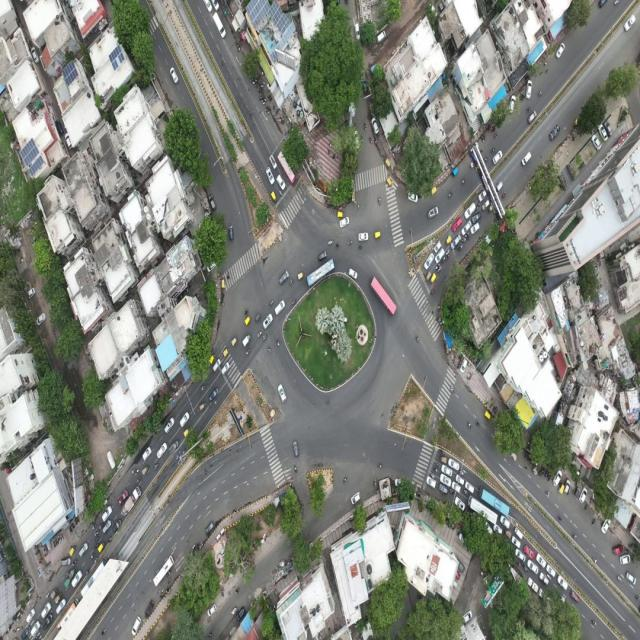3W: (196, 397, 208, 413), (49, 583, 59, 600), (53, 591, 64, 606), (95, 539, 106, 554), (68, 543, 78, 559), (141, 462, 151, 478), (428, 182, 438, 198), (67, 566, 78, 580), (503, 526, 513, 541), (428, 272, 438, 286), (270, 188, 278, 205), (451, 163, 460, 178), (437, 454, 448, 466), (384, 155, 392, 171), (63, 576, 72, 590), (373, 227, 382, 241), (483, 407, 492, 421), (573, 116, 583, 128), (183, 424, 191, 438), (208, 352, 216, 366), (425, 268, 432, 284), (557, 483, 566, 495), (573, 485, 580, 500), (230, 334, 238, 347), (445, 234, 453, 247), (220, 274, 226, 291), (223, 346, 232, 357), (386, 176, 393, 190), (244, 314, 251, 327), (255, 311, 262, 324), (297, 269, 304, 282), (336, 209, 344, 219), (488, 202, 494, 215)
Bus: (368, 272, 399, 320), (80, 552, 108, 600), (479, 484, 511, 518), (305, 256, 336, 290), (56, 594, 80, 637), (467, 494, 499, 526), (276, 146, 298, 188), (152, 554, 176, 592)
Cars: (462, 199, 478, 221), (505, 90, 518, 116), (234, 604, 247, 628), (70, 567, 83, 590), (29, 616, 42, 638), (131, 611, 142, 637), (277, 380, 288, 406), (224, 217, 235, 243), (264, 164, 276, 187), (550, 122, 562, 145), (41, 611, 54, 632), (40, 598, 52, 620), (144, 598, 156, 620), (526, 108, 539, 128), (623, 14, 636, 34), (520, 151, 534, 169), (597, 121, 609, 142), (555, 40, 566, 62), (117, 488, 129, 508), (262, 312, 274, 332), (336, 215, 351, 231), (54, 597, 67, 615), (345, 262, 358, 280), (290, 438, 301, 459), (578, 484, 588, 507), (20, 621, 32, 640), (178, 410, 190, 429), (208, 385, 220, 404), (278, 268, 290, 287), (514, 548, 528, 564), (25, 605, 36, 625), (211, 354, 222, 374), (207, 190, 217, 212), (434, 245, 445, 265), (601, 515, 611, 537), (156, 441, 168, 459), (203, 520, 215, 538), (352, 128, 361, 152), (591, 134, 603, 152), (535, 552, 547, 570), (352, 22, 362, 43), (164, 416, 175, 435), (423, 252, 434, 271), (205, 604, 218, 620), (526, 560, 539, 576), (78, 541, 90, 558), (274, 299, 286, 316), (492, 150, 504, 167), (460, 219, 472, 236), (450, 216, 462, 233), (625, 570, 637, 587), (370, 116, 380, 136), (168, 438, 179, 456), (275, 174, 286, 192), (426, 205, 439, 220), (349, 491, 362, 506), (557, 575, 569, 591), (524, 544, 536, 560), (499, 513, 511, 529), (464, 480, 476, 496), (448, 456, 460, 472), (221, 358, 231, 377), (359, 76, 369, 95), (553, 469, 563, 488), (112, 517, 123, 534), (450, 233, 461, 250), (406, 190, 419, 204), (438, 474, 451, 488), (102, 504, 112, 522), (604, 119, 614, 137), (459, 356, 468, 376), (141, 445, 152, 461), (494, 180, 505, 196), (470, 220, 481, 236), (563, 475, 571, 497), (454, 496, 465, 512), (451, 480, 462, 496), (426, 474, 437, 490), (102, 518, 112, 535), (268, 153, 278, 170), (356, 230, 369, 243), (525, 79, 533, 100), (545, 563, 557, 577), (441, 463, 453, 477), (437, 482, 449, 496), (376, 29, 387, 44), (318, 248, 328, 264), (482, 197, 492, 213), (570, 588, 580, 604), (511, 534, 521, 550), (619, 554, 631, 567), (60, 556, 72, 568), (209, 0, 221, 12), (612, 544, 624, 556), (492, 523, 504, 535), (202, 0, 213, 13), (471, 210, 482, 223), (478, 189, 488, 203), (539, 572, 549, 586), (434, 237, 442, 254), (454, 472, 464, 485), (514, 526, 523, 540), (597, 0, 607, 12)
LCV: (212, 8, 228, 41), (525, 575, 541, 596), (240, 331, 254, 346)
M2W: (233, 584, 242, 600), (341, 476, 351, 488), (292, 461, 298, 476), (44, 588, 51, 600), (414, 334, 422, 344), (464, 421, 474, 429), (374, 462, 384, 470), (208, 627, 214, 640), (266, 344, 273, 355), (290, 296, 298, 305), (191, 543, 197, 555), (245, 347, 252, 357), (287, 276, 294, 286), (327, 237, 334, 247), (537, 88, 544, 98), (474, 418, 481, 428), (571, 532, 578, 542), (616, 574, 623, 584), (372, 477, 378, 488), (335, 241, 342, 250), (462, 487, 469, 496), (448, 487, 455, 496), (324, 399, 331, 408), (275, 337, 281, 347), (243, 307, 249, 317), (347, 237, 353, 247), (377, 195, 382, 207), (475, 202, 481, 212), (449, 385, 455, 395), (591, 518, 597, 528), (631, 552, 636, 564), (167, 567, 173, 577), (166, 577, 172, 587), (357, 242, 364, 250), (429, 288, 436, 296), (591, 557, 599, 564), (34, 548, 40, 557), (94, 555, 100, 564), (136, 475, 142, 484), (257, 329, 263, 338), (262, 333, 268, 342), (448, 189, 454, 198), (491, 145, 497, 154), (546, 572, 552, 581), (430, 471, 436, 480), (71, 520, 76, 530), (501, 191, 506, 201), (93, 544, 100, 551), (613, 0, 620, 7), (556, 515, 563, 522), (437, 448, 444, 455), (83, 568, 89, 576), (88, 553, 96, 559), (134, 469, 140, 477), (154, 462, 160, 470), (268, 299, 274, 307), (263, 104, 269, 112), (369, 134, 373, 146), (460, 177, 466, 185), (482, 155, 488, 163), (466, 234, 472, 242), (591, 619, 597, 627), (523, 566, 529, 574), (39, 556, 44, 565), (520, 94, 525, 103), (526, 105, 531, 114), (437, 265, 442, 274), (584, 502, 589, 511), (360, 134, 364, 145), (91, 523, 97, 530), (98, 523, 104, 530), (107, 536, 114, 542), (544, 491, 551, 497), (628, 542, 635, 548), (519, 560, 526, 566), (435, 462, 441, 469), (60, 533, 64, 543), (68, 526, 73, 534), (65, 571, 70, 579), (200, 385, 205, 393), (278, 188, 283, 196), (363, 122, 367, 132), (445, 253, 450, 261), (441, 255, 445, 265), (47, 559, 51, 568), (72, 560, 78, 566), (235, 47, 241, 53), (252, 79, 258, 85), (267, 106, 271, 115), (545, 470, 549, 479), (624, 548, 630, 554), (262, 98, 267, 105), (494, 132, 499, 139), (459, 244, 464, 251), (435, 263, 440, 270), (432, 468, 439, 473), (227, 270, 230, 281), (52, 540, 56, 548), (74, 518, 78, 526), (76, 517, 80, 525), (456, 243, 460, 251), (446, 249, 450, 257), (55, 536, 58, 546), (58, 535, 61, 545), (94, 531, 100, 536), (95, 537, 101, 542), (375, 137, 378, 147), (464, 232, 469, 238), (542, 468, 545, 478), (548, 474, 551, 484), (459, 470, 464, 476), (132, 468, 136, 475), (271, 105, 275, 112), (520, 88, 524, 95), (538, 469, 542, 476), (258, 88, 263, 93), (266, 95, 271, 100), (461, 238, 466, 243), (274, 109, 278, 115), (526, 453, 529, 461), (254, 82, 259, 86), (257, 86, 261, 91), (261, 82, 265, 87), (258, 92, 264, 95), (536, 461, 538, 470), (525, 451, 527, 459), (258, 99, 263, 101)
Truck: (120, 484, 144, 521)
